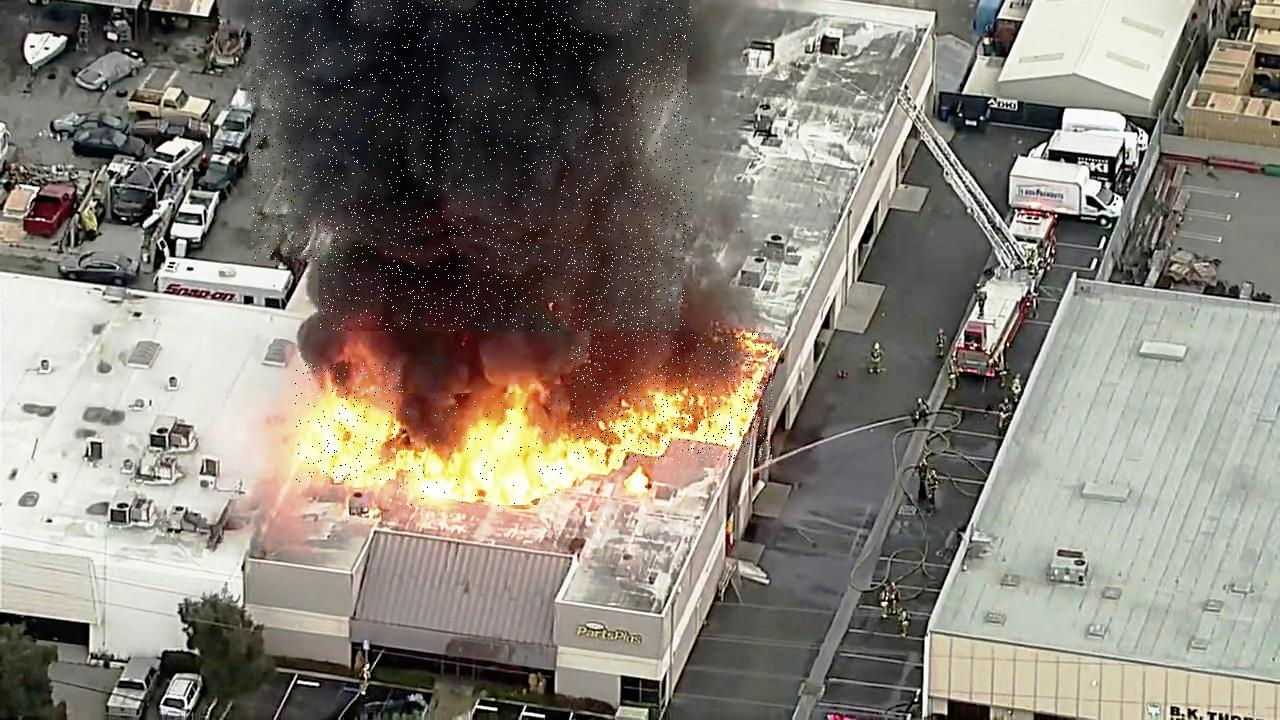fire: (571, 334, 772, 464), (397, 394, 564, 508), (295, 364, 407, 483)
smoke: (252, 0, 693, 262), (319, 222, 687, 331)
